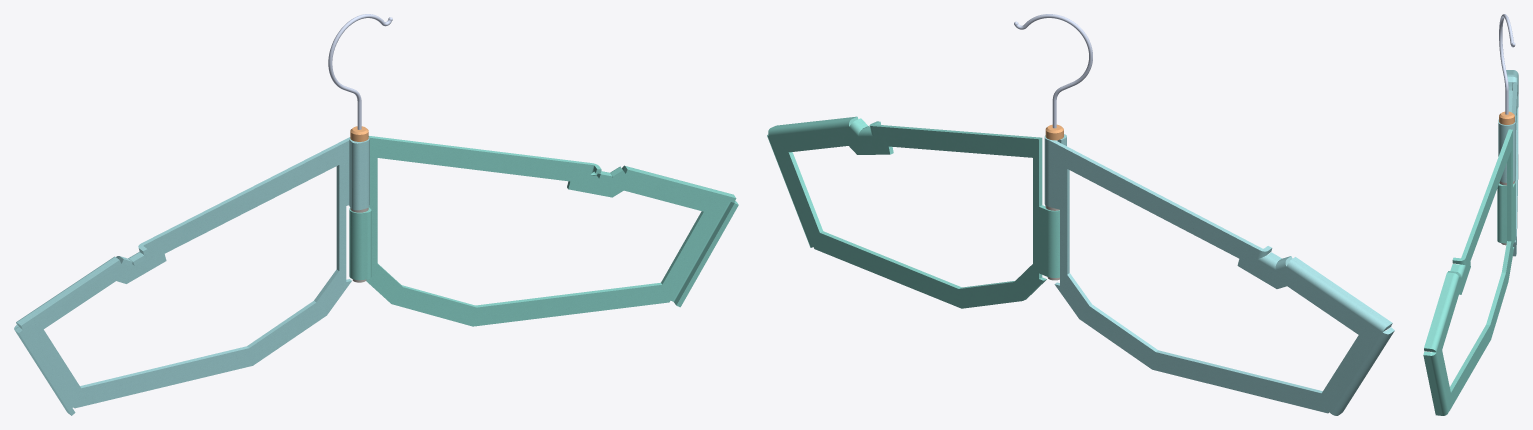
The model's file is Hanger.glb.
3 views of the same model, side by side, from view 1: azimuth 30°, elevation 25°; view 2: azimuth 150°, elevation 25°; view 3: azimuth 270°, elevation 25° (orthographic). The views are drawn at different scales.
Parts seen in each view (by area): view 1: Hanger Bottom-2, Hanger Top-2, Hanger Hook-1; view 2: Hanger Top-2, Hanger Bottom-2, Hanger Hook-1; view 3: Hanger Bottom-2, Hanger Top-2, Hanger Hook-1.
Boxes of the visible parts, left/top/right/bottom form: Hanger Bottom-2: left=349, top=136, right=738, bottom=326; Hanger Top-2: left=14, top=137, right=369, bottom=415; Hanger Hook-1: left=328, top=14, right=392, bottom=141; Hanger Top-2: left=1044, top=134, right=1394, bottom=415; Hanger Bottom-2: left=767, top=116, right=1059, bottom=308; Hanger Hook-1: left=1014, top=14, right=1092, bottom=140; Hanger Bottom-2: left=1423, top=129, right=1515, bottom=415; Hanger Top-2: left=1498, top=70, right=1518, bottom=256; Hanger Hook-1: left=1499, top=14, right=1515, bottom=124.
Bounding box in the file's own units: 0.4815 × 0.2251 × 0.069.
6 materials, 2 textured.
